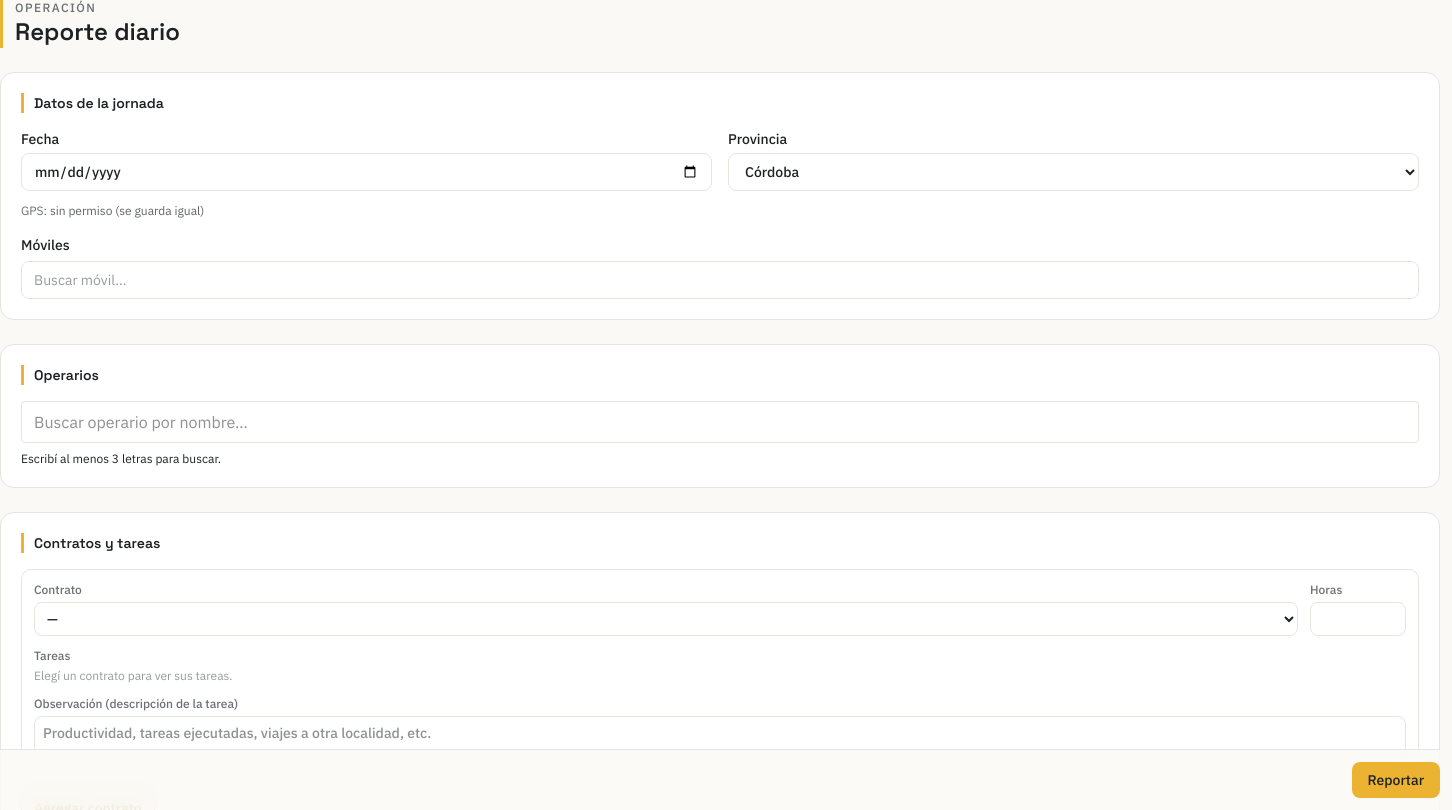
Scenario: ReportePage › no envía si faltan campos obligatorios, y marca los errores al intentar
Step 1. Click the button "Reportar" → (1396, 780), box x1=1352 y1=762 x2=1440 y2=798
(page scrolled)
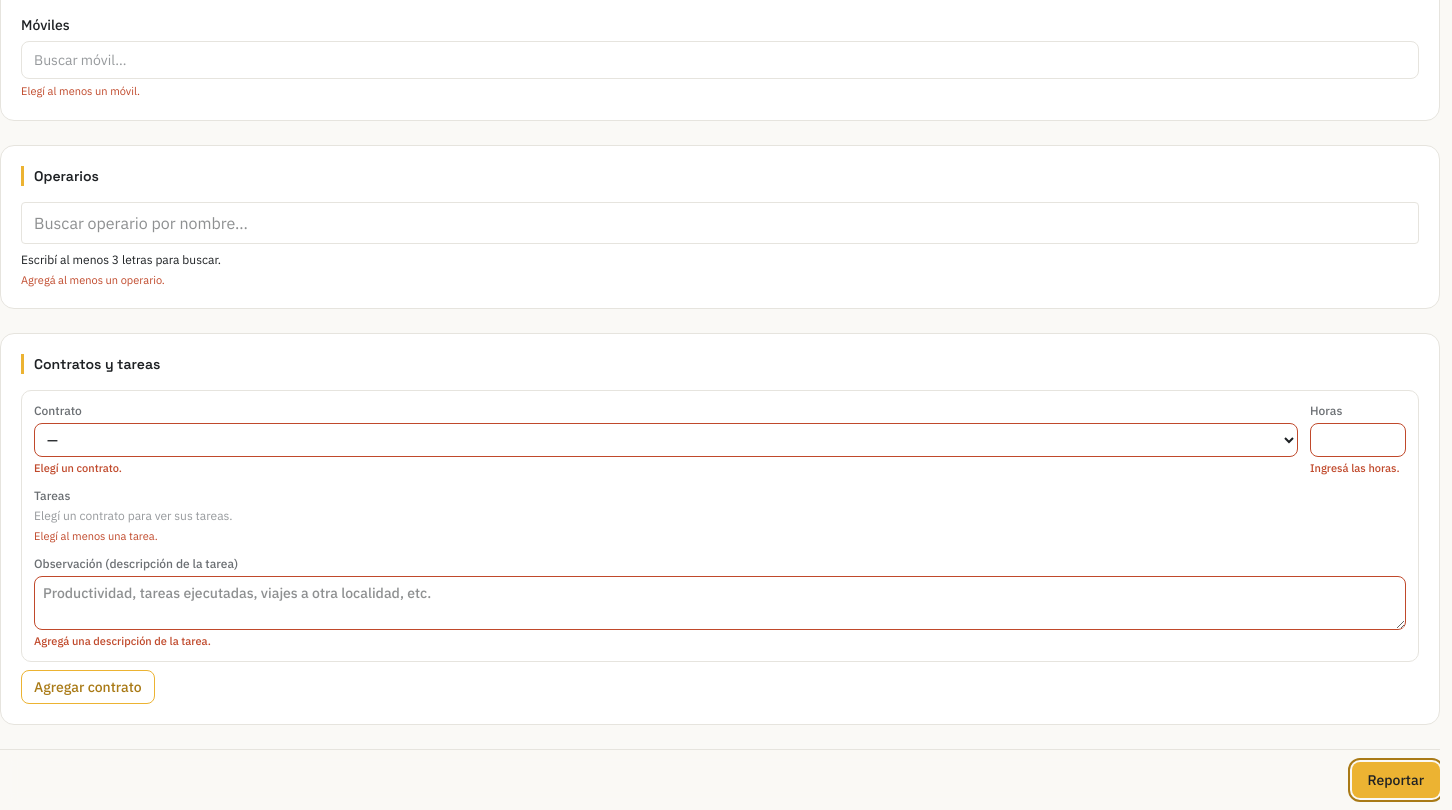
Check: the text "Elegí al menos un móvil." is shown, box x1=21 y1=84 x2=140 y2=98
Check: the text "Agregá al menos un operario." is shown, box x1=21 y1=272 x2=165 y2=286
Check: the text "Elegí un contrato." is shown, box x1=34 y1=461 x2=122 y2=475
